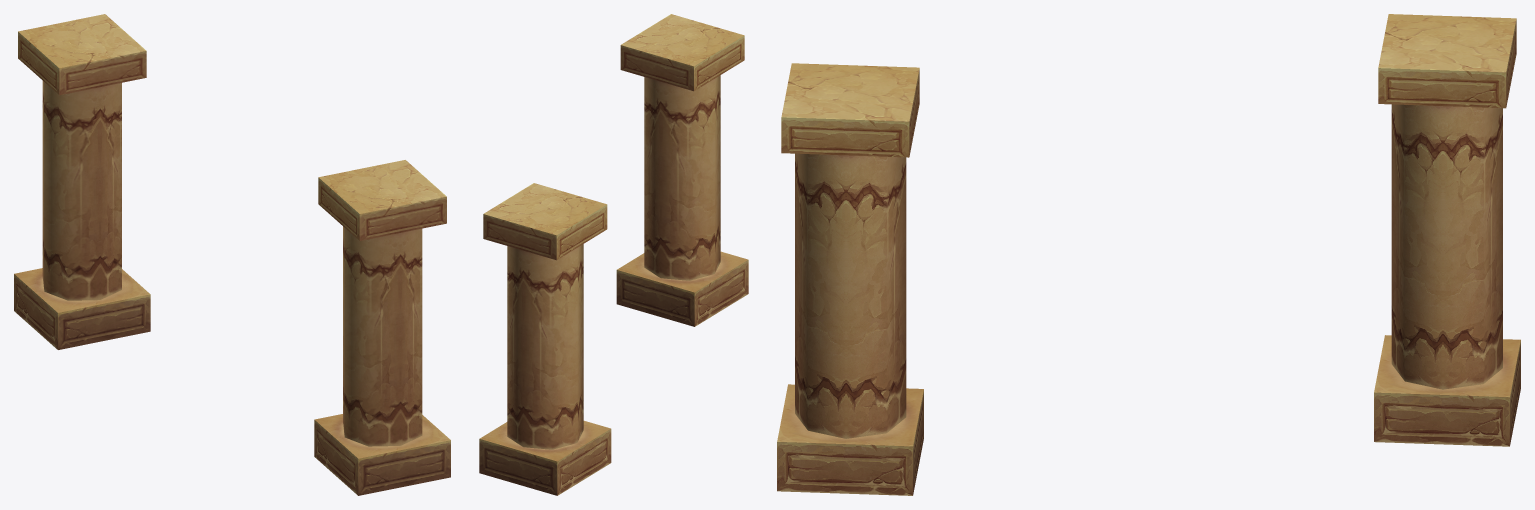
Rendered from Area_10_36.fbx.
3 views of the same model, side by side, from view 1: azimuth 30°, elevation 25°; view 2: azimuth 150°, elevation 25°; view 3: azimuth 270°, elevation 25° (orthographic). The views are drawn at different scales.
Visible parts, largest first — view 1: Area_10_36; view 2: Area_10_36; view 3: Area_10_36.
Part boxes in pixels (x1,y1,x2,y2): Area_10_36: [14, 14, 450, 495]; Area_10_36: [479, 14, 748, 495]; Area_10_36: [777, 14, 1520, 495].
Size of the model in its own units: 480 by 749 by 1355.
